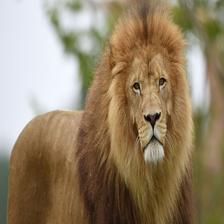Lion: (9, 11, 196, 224)
